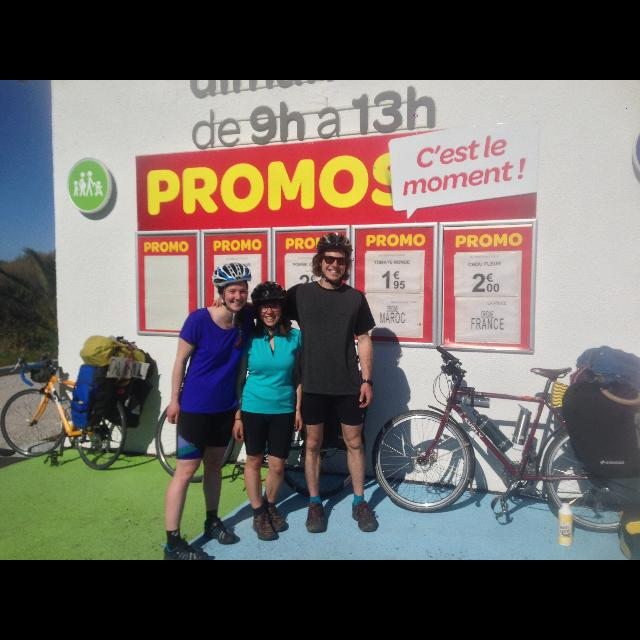head: (318, 239, 350, 281), (254, 289, 286, 327), (217, 277, 250, 313)
person: (208, 230, 384, 534), (228, 277, 306, 543)
